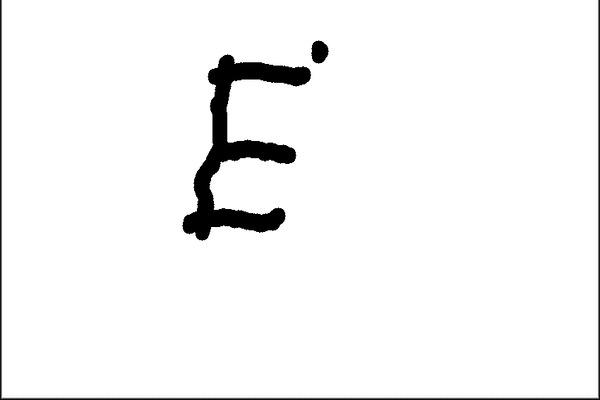E: (175, 41, 339, 240)
